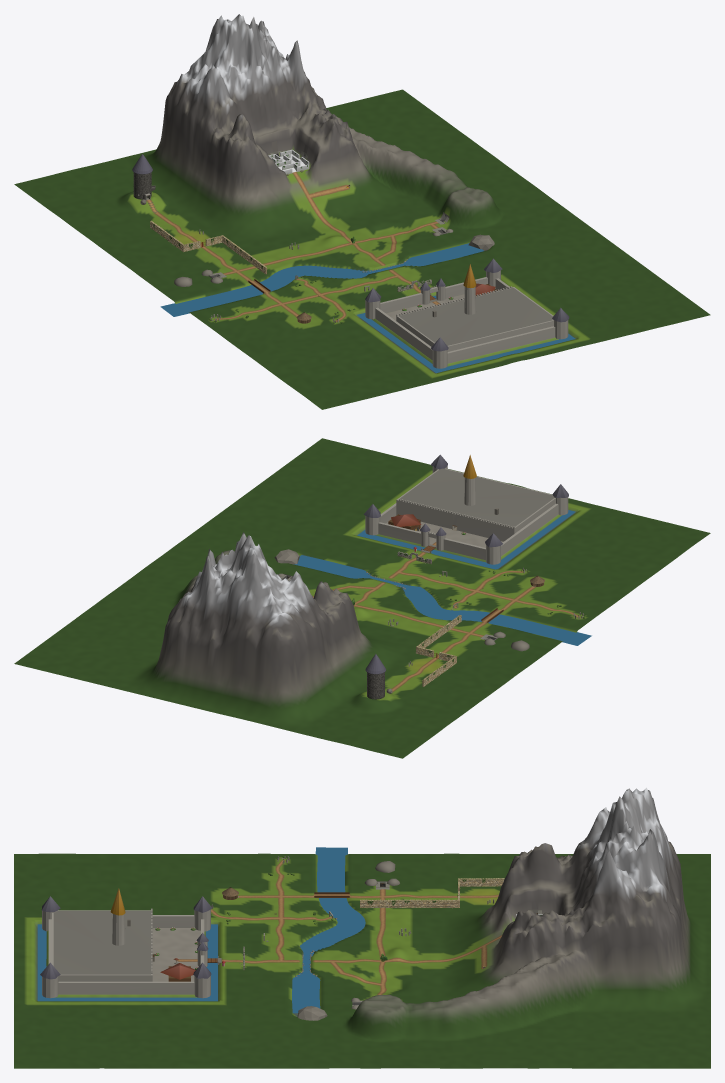
Rendered from land.glb.
The picture shows the model from 3 angles, top to bottom: view 1: azimuth 30°, elevation 25°; view 2: azimuth 150°, elevation 25°; view 3: azimuth 270°, elevation 25°; orthographic projection. The views are drawn at different scales.
Parts seen in each view (by area): view 1: ground, built, water, paths, old-stone-wall; view 2: ground, built, water, paths, old-stone-wall; view 3: ground, built, water, paths, old-stone-wall.
Boxes of the visible parts, bbox=[...] form: ground: bbox=[14, 14, 710, 409]; built: bbox=[132, 154, 569, 368]; water: bbox=[160, 243, 575, 373]; paths: bbox=[146, 171, 440, 322]; old-stone-wall: bbox=[150, 220, 267, 274]; ground: bbox=[14, 438, 710, 758]; built: bbox=[274, 454, 578, 699]; water: bbox=[293, 510, 591, 645]; paths: bbox=[312, 538, 580, 692]; old-stone-wall: bbox=[415, 615, 461, 686]; ground: bbox=[14, 787, 710, 1068]; built: bbox=[40, 859, 485, 1020]; water: bbox=[37, 847, 365, 1013]; paths: bbox=[176, 860, 502, 995]; old-stone-wall: bbox=[360, 878, 504, 908].
Size of the model in its own units: 311 by 140 by 412.
